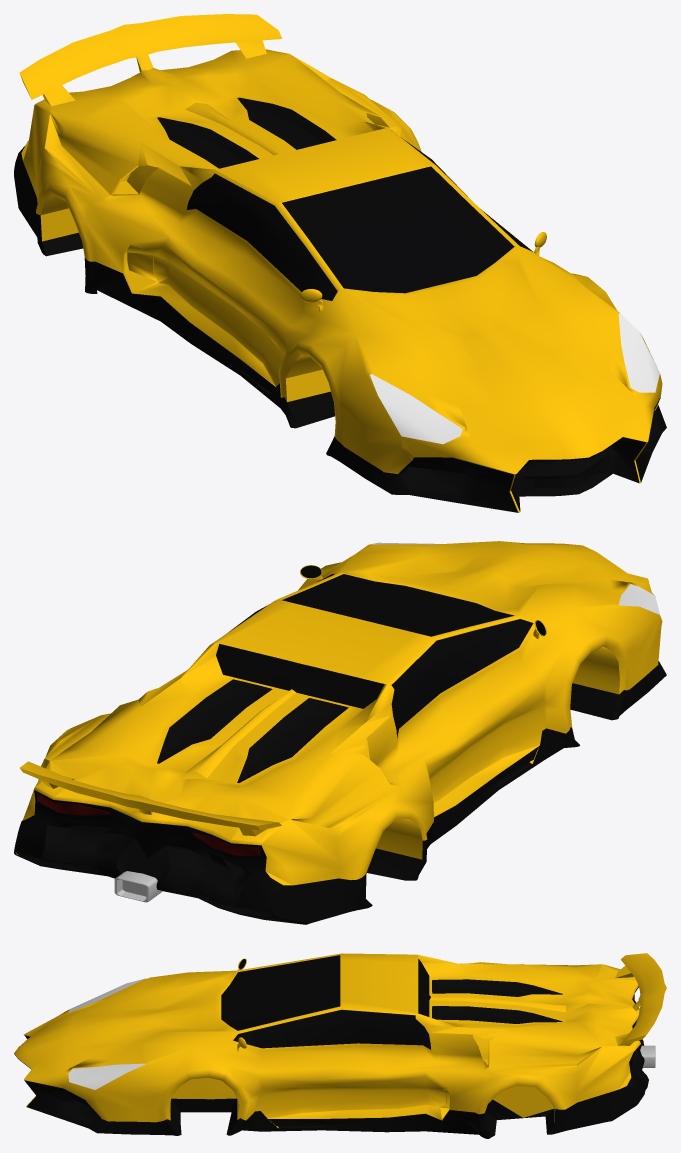
The model's file is car_4.obj.
3 views of the same model, one above another, from view 1: azimuth 30°, elevation 25°; view 2: azimuth 150°, elevation 25°; view 3: azimuth 270°, elevation 25° (orthographic). The views are drawn at different scales.
Visible parts, largest first — view 1: Box003, Object010, Object008, Object009, Object017, Object005, Object011; view 2: Box003, Object010, Object008, Object009, Object017, Box002, Object005, Object012, Object006; view 3: Box003, Object010, Object014, Object017, Object008, Object011, Object005, Box004.
Boxes of the visible parts, left/top/right/bottom form: Box003: left=19, top=14, right=662, bottom=512; Object010: left=186, top=137, right=532, bottom=300; Object008: left=18, top=146, right=666, bottom=512; Object009: left=14, top=153, right=406, bottom=494; Object017: left=157, top=97, right=336, bottom=168; Object005: left=370, top=374, right=462, bottom=444; Object011: left=618, top=313, right=659, bottom=392; Box003: left=15, top=541, right=662, bottom=885; Object010: left=216, top=574, right=533, bottom=737; Object008: left=14, top=661, right=665, bottom=924; Object009: left=273, top=663, right=666, bottom=923; Object017: left=157, top=679, right=348, bottom=782; Box002: left=116, top=871, right=162, bottom=902; Object005: left=618, top=584, right=659, bottom=614; Object012: left=37, top=793, right=110, bottom=815; Object006: left=193, top=832, right=261, bottom=855; Box003: left=14, top=953, right=666, bottom=1128; Object010: left=221, top=955, right=430, bottom=1049; Object014: left=91, top=1086, right=638, bottom=1138; Object017: left=432, top=979, right=562, bottom=1023; Object008: left=14, top=986, right=648, bottom=1134; Object011: left=68, top=1063, right=145, bottom=1089; Object005: left=68, top=978, right=144, bottom=1011; Box004: left=640, top=1046, right=655, bottom=1067.
Bounding box in the file's own units: 68.59 × 29.25 × 162.
